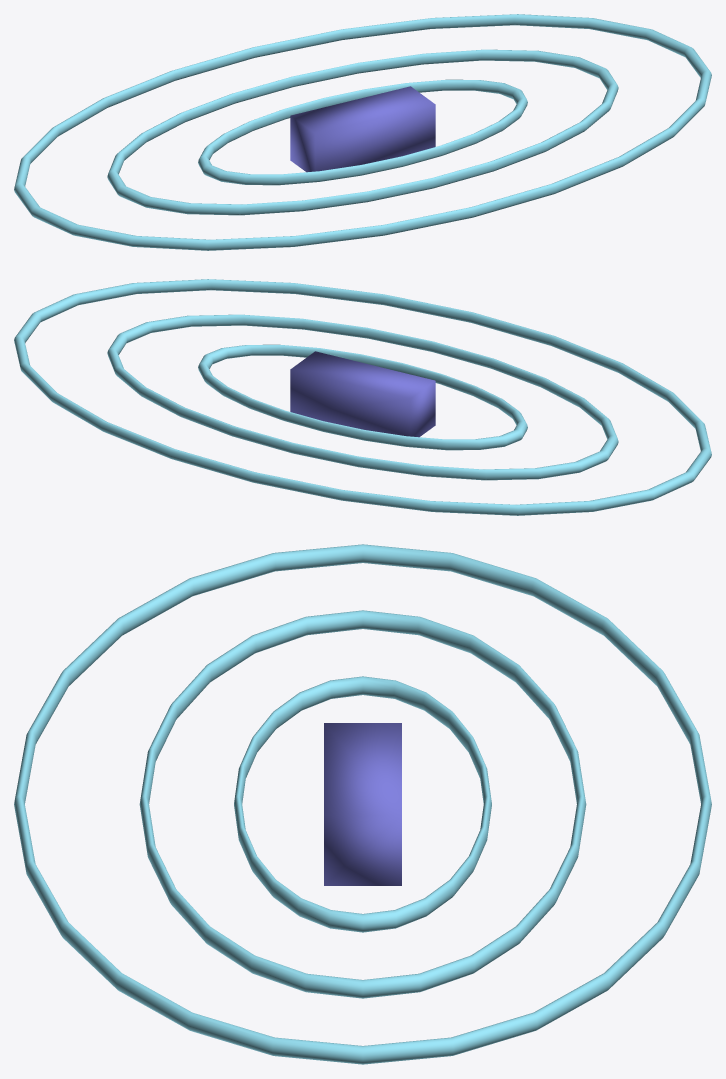
Rendered from magnetic_field.glb.
3 renders of one model, top to bottom at view 1: azimuth 30°, elevation 25°; view 2: azimuth 150°, elevation 25°; view 3: azimuth 270°, elevation 25°, orthographic. The views are drawn at different scales.
Parts seen in each view (by area): view 1: loop_1.9, loop_1.4, center_mag, loop_0.9; view 2: loop_1.9, loop_1.4, center_mag, loop_0.9; view 3: loop_1.9, loop_1.4, center_mag, loop_0.9.
Boxes of the visible parts, bbox=[...] form: loop_1.9: bbox=[14, 14, 711, 250]; loop_1.4: bbox=[107, 49, 618, 215]; center_mag: bbox=[290, 86, 435, 172]; loop_0.9: bbox=[198, 79, 527, 185]; loop_1.9: bbox=[14, 279, 711, 515]; loop_1.4: bbox=[107, 314, 618, 480]; center_mag: bbox=[290, 351, 435, 437]; loop_0.9: bbox=[198, 344, 527, 450]; loop_1.9: bbox=[14, 544, 711, 1064]; loop_1.4: bbox=[139, 610, 586, 998]; center_mag: bbox=[324, 723, 401, 885]; loop_0.9: bbox=[234, 676, 491, 932].
Size of the model in its own units: 3.86 by 0.25 by 2.23.
